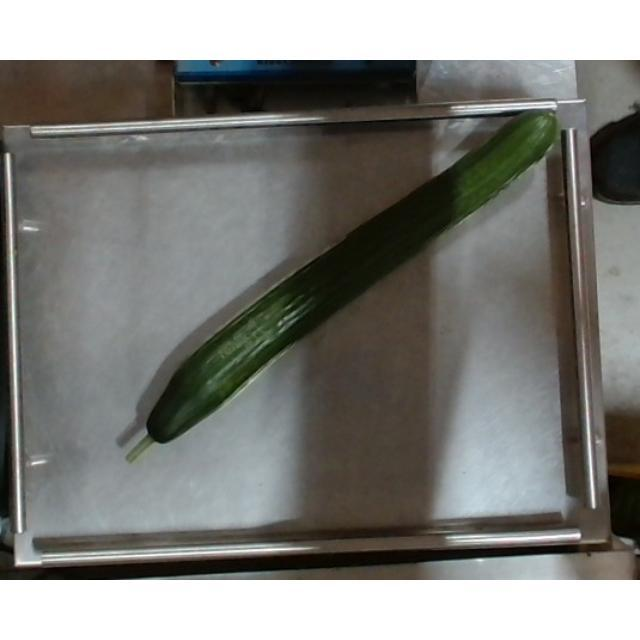cucumber: (133, 102, 553, 456)
